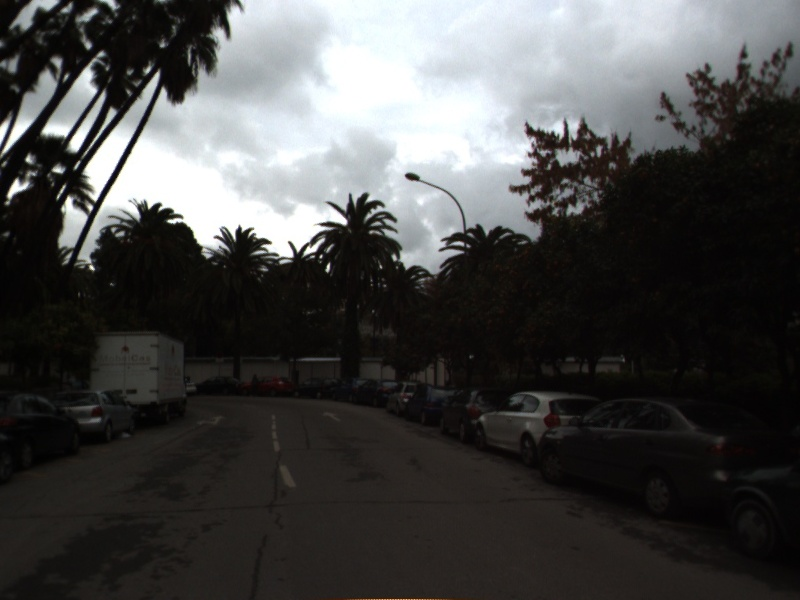STRAIGHT: (320, 410, 344, 424)
STRAIGHT_LEFT: (194, 413, 228, 427)
